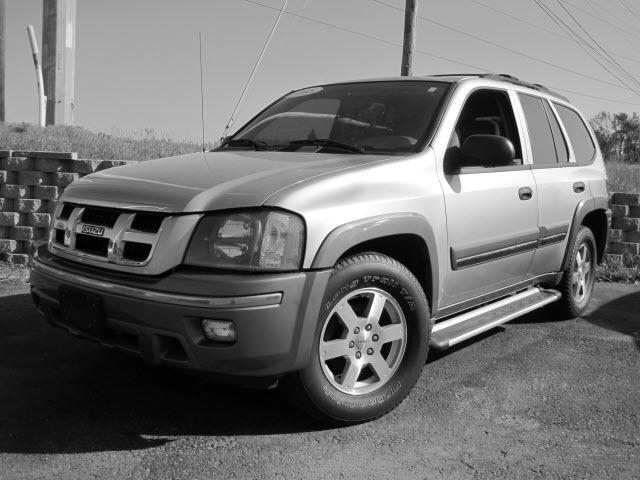car: (25, 67, 619, 432)
